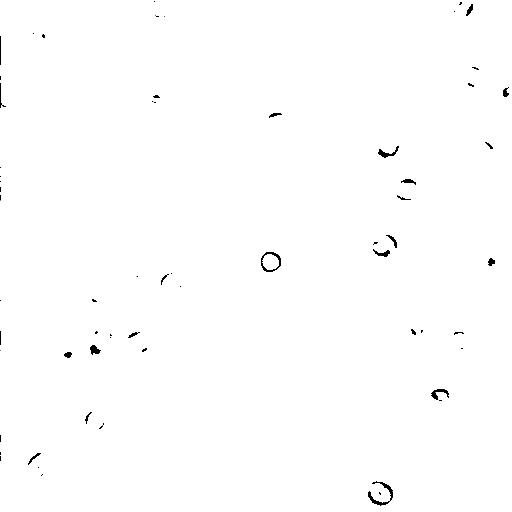micro-algae: (323, 249, 389, 313), (100, 339, 141, 379), (1, 322, 39, 360), (479, 238, 512, 278), (463, 133, 498, 168), (80, 283, 117, 314), (55, 343, 89, 373), (365, 478, 396, 508), (85, 319, 111, 354), (261, 110, 292, 139), (157, 271, 188, 298), (124, 328, 153, 356), (25, 450, 51, 481), (369, 233, 399, 259), (24, 23, 55, 48), (392, 177, 422, 202), (361, 153, 396, 174), (412, 401, 437, 428), (17, 289, 44, 313), (461, 65, 487, 89), (261, 250, 283, 275), (446, 331, 471, 353), (377, 138, 402, 159), (407, 310, 426, 337), (451, 0, 475, 21), (130, 258, 150, 282), (149, 0, 177, 17), (85, 410, 105, 433), (428, 312, 451, 332), (1, 83, 18, 110), (428, 387, 452, 403), (1, 435, 13, 462), (1, 59, 11, 78), (500, 84, 512, 99)
